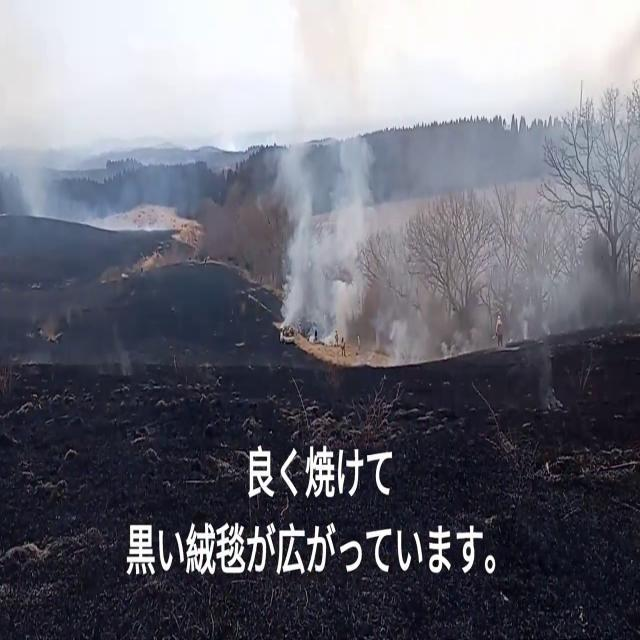Smoke: (274, 31, 640, 362), (272, 48, 394, 352), (0, 114, 66, 229)
